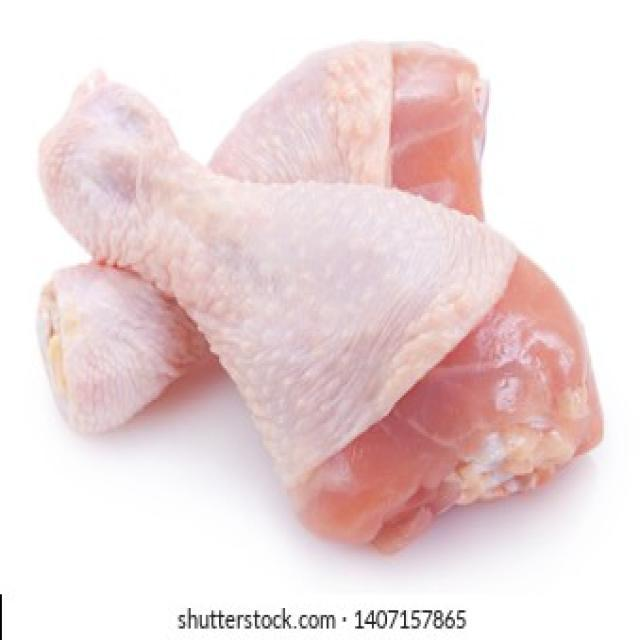leg: (47, 82, 598, 520), (22, 36, 486, 396)
